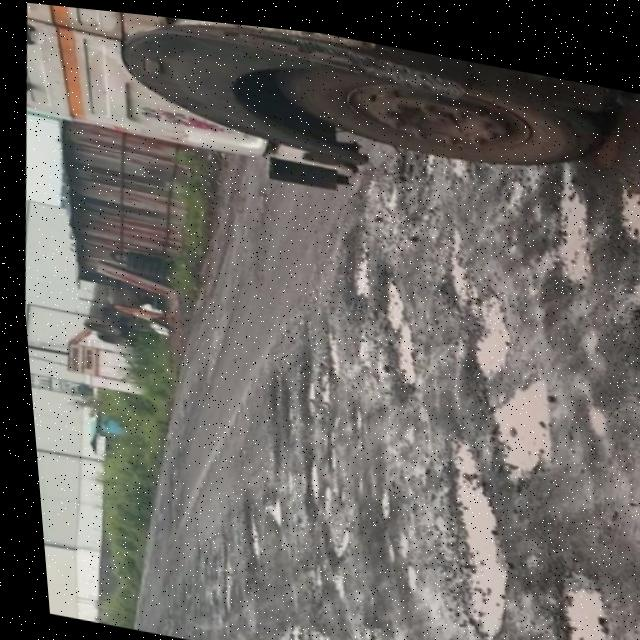Pothole: (455, 340, 579, 494), (506, 108, 607, 291), (420, 409, 500, 640), (278, 441, 398, 584), (523, 506, 640, 640), (352, 230, 424, 402), (404, 171, 480, 304), (302, 203, 389, 314), (281, 292, 341, 431), (449, 273, 519, 387), (252, 340, 297, 477), (194, 514, 246, 617), (596, 145, 640, 234), (339, 602, 418, 640), (233, 471, 260, 566), (254, 469, 289, 537), (637, 124, 640, 317)
